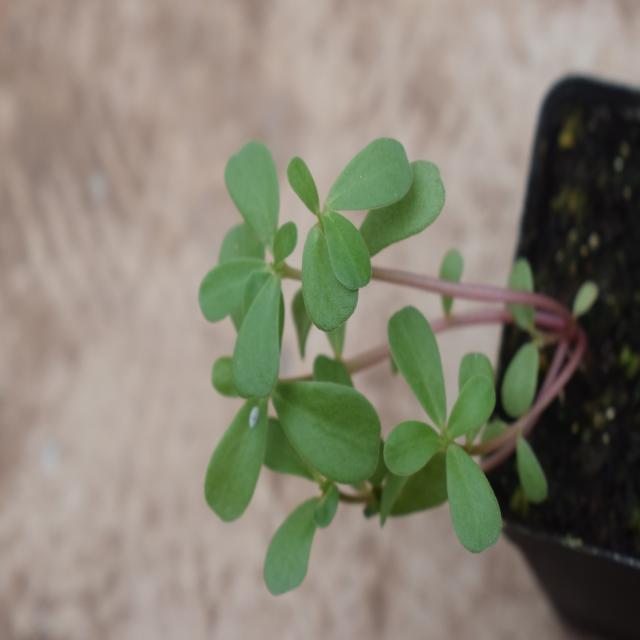purslane: (127, 132, 517, 549)
